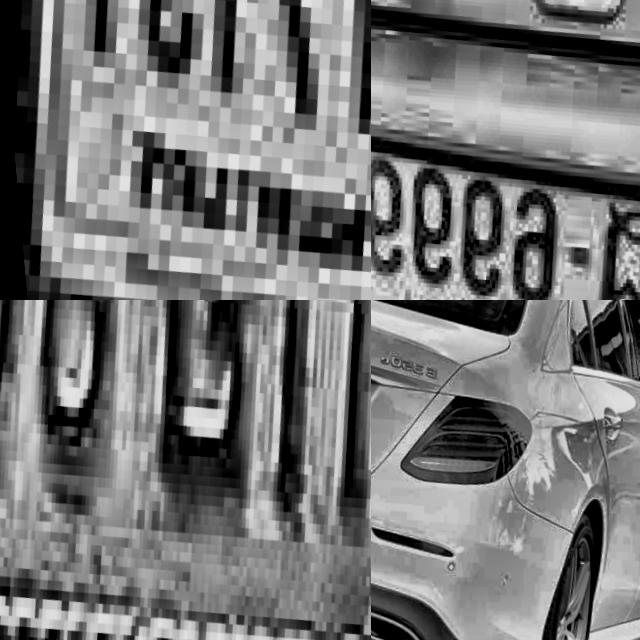license-plate: (0, 300, 371, 640), (0, 0, 371, 300), (371, 75, 640, 300)
